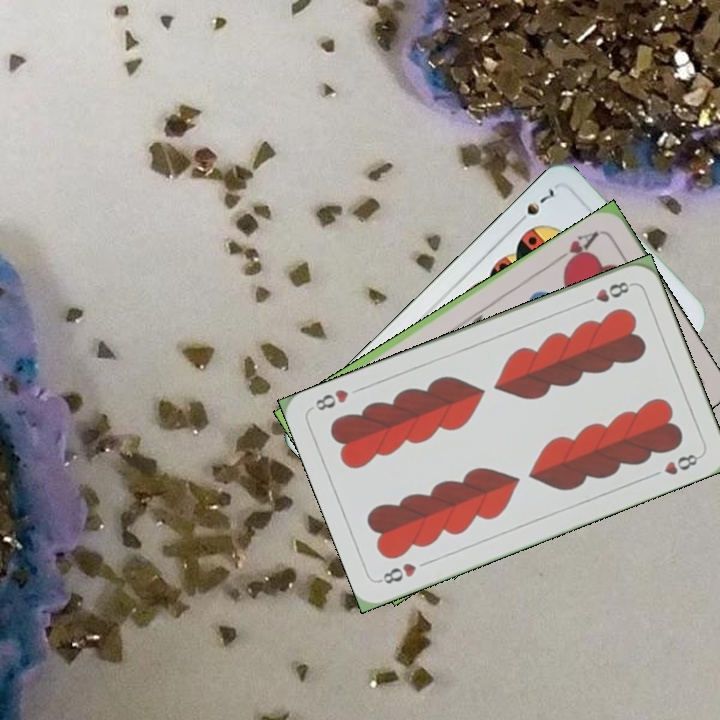H8: (578, 277, 635, 308), (375, 559, 419, 587)
HA: (550, 227, 602, 271)
S7: (512, 184, 557, 228)
